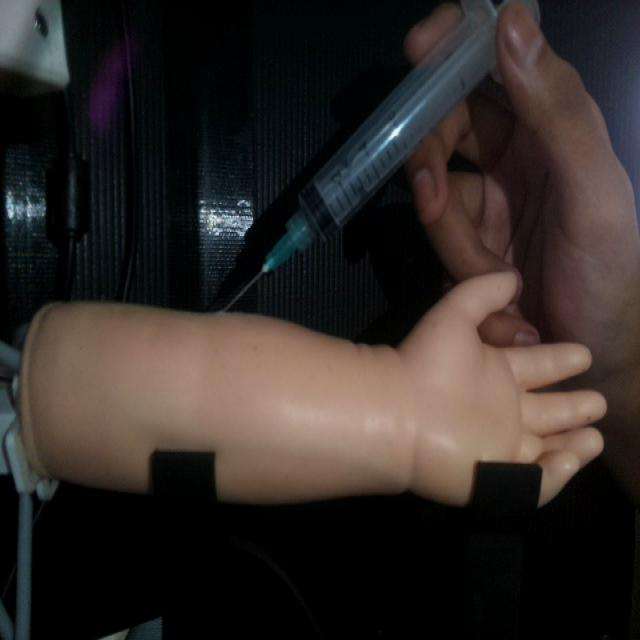Above 30 degrees: (216, 0, 542, 315)
